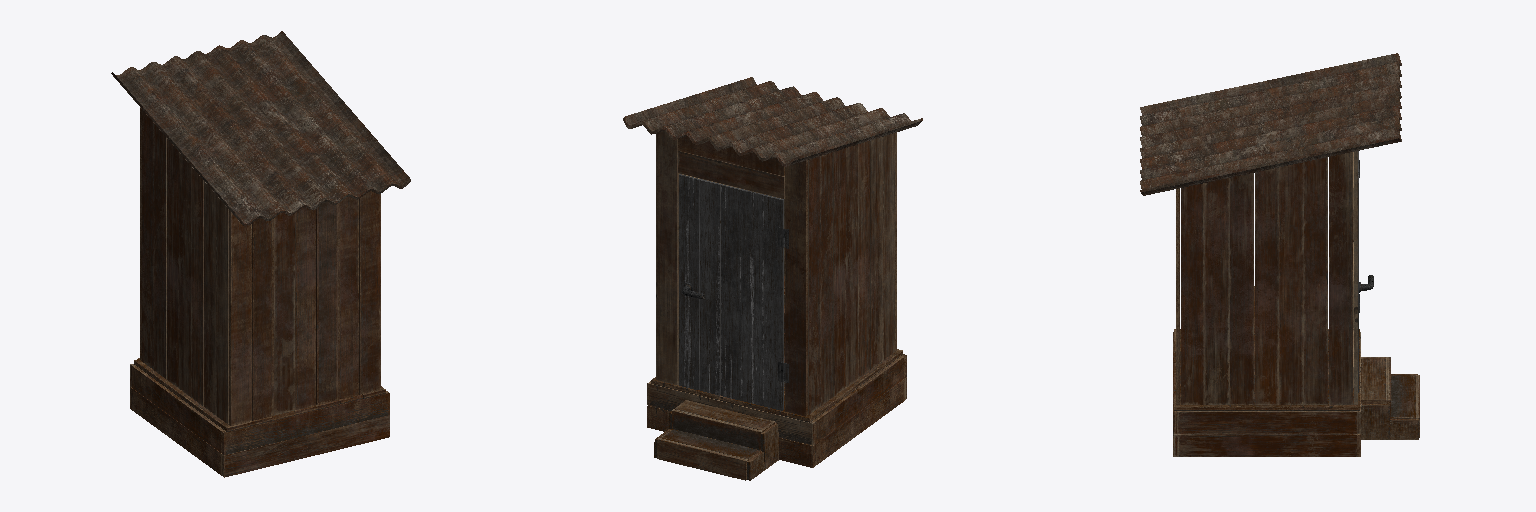
3 views of the same model, side by side, from view 1: azimuth 30°, elevation 25°; view 2: azimuth 150°, elevation 25°; view 3: azimuth 270°, elevation 25° (orthographic).
Visible parts, largest first — view 1: Mid, Roof, Bot; view 2: Mid, Box001, Bot, Roof; view 3: Mid, Roof, Bot, Box001.
Boxes of the visible parts, box(x1,y1,x2,y2) form: Mid: box(140, 108, 380, 425); Roof: box(111, 31, 410, 226); Bot: box(130, 358, 389, 477); Mid: box(656, 131, 896, 416); Box001: box(679, 174, 784, 410); Bot: box(647, 349, 906, 480); Roof: box(623, 77, 922, 166); Mid: box(1176, 151, 1359, 404); Roof: box(1140, 53, 1401, 195); Bot: box(1173, 329, 1419, 456); Box001: box(1353, 151, 1373, 392).
Size of the model in its own units: 2.66 by 4.83 by 3.79.
5 materials, 5 textured.